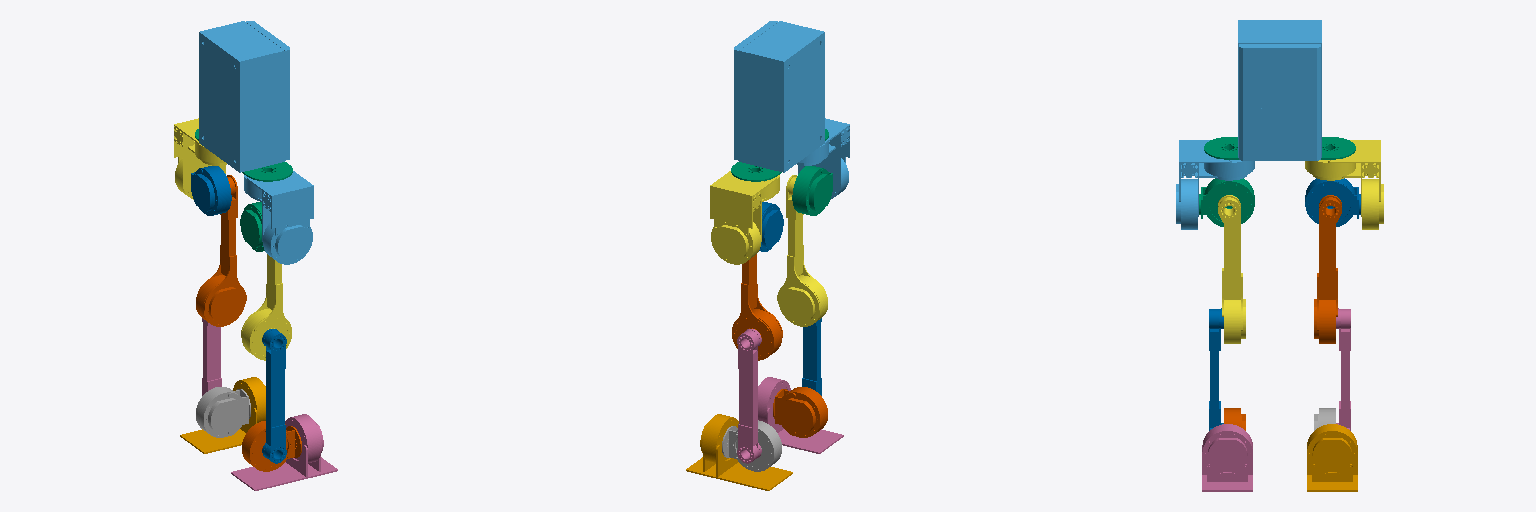
URDF robot description (Robot):
<?xml version='1.0' encoding='utf-8'?>
<robot name="Robot">
    <link name="isaac_zup_root" />
    <link name="robot_torso_link">
        <inertial>
            <origin xyz="0.040610506256968416 -0.04428824406417338 0.15232735840639008" rpy="0 0 0" />
            <mass value="3.4766230099551185" />
            <inertia ixx="0.04556755879204122" iyy="0.05012873896013437" izz="0.029046998553490355" ixy="0.00013634333507087952" iyz="-0.0001431936018525537" ixz="-2.17772042035041e-05" />
        </inertial>
        <visual name="robot_torso_link_visual">
            <origin xyz="0.03999999999999753 -0.20650000405311944 -0.8247999999999932" rpy="0 0 -1.5707963267948957" />
            <geometry>
                <mesh filename="meshes/robot_torso_link.stl" scale="0.001 0.001 0.001" />
            </geometry>
        </visual>
        <collision name="robot_torso_link_collision">
            <origin xyz="0.03999999999999753 -0.20650000405311944 -0.8247999999999932" rpy="0 0 -1.5707963267948957" />
            <geometry>
                <mesh filename="meshes/robot_torso_link.stl" scale="0.001 0.001 0.001" />
            </geometry>
        </collision>
    </link>
    <link name="robot_pelvis_link">
        <inertial>
            <origin xyz="1.907307843928129e-09 0.8221283725272435 -0.1605000000000951" rpy="0 0 0" />
            <mass value="0.4703666239440356" />
            <inertia ixx="0.0004950338258166186" iyy="0.0051455689188816735" izz="0.004655577203476379" ixy="-1.2414480207597884e-16" iyz="-4.9898332365055555e-17" ixz="-2.465814750775911e-16" />
        </inertial>
        <visual name="robot_pelvis_link_visual">
            <origin xyz="0 0 0" rpy="0 0 0" />
            <geometry>
                <mesh filename="meshes/robot_pelvis_link.stl" scale="0.001 0.001 0.001" />
            </geometry>
        </visual>
        <collision name="robot_pelvis_link_collision">
            <origin xyz="0 0 0" rpy="0 0 0" />
            <geometry>
                <mesh filename="meshes/robot_pelvis_link.stl" scale="0.001 0.001 0.001" />
            </geometry>
        </collision>
    </link>
    <link name="robot_l_hip_yaw_link">
        <inertial>
            <origin xyz="0.06170580963744272 4.0725723238210774e-09 0.06827606857409264" rpy="0 0 0" />
            <mass value="6.333603185323419" />
            <inertia ixx="0.02843678214079315" iyy="0.039819487774459095" izz="0.025134874646244865" ixy="3.3506530883187224e-12" iyz="4.739653114427256e-12" ixz="-0.010596038307325806" />
        </inertial>
        <visual name="robot_l_hip_yaw_link_visual">
            <origin xyz="0.0010000019072620959 4.05311087803284e-09 0.12129999999998944" rpy="0 0 -3.1415926535897922" />
            <geometry>
                <mesh filename="meshes/robot_l_hip_yaw_link.stl" scale="0.001 0.001 0.001" />
            </geometry>
        </visual>
        <collision name="robot_l_hip_yaw_link_collision">
            <origin xyz="0.0010000019072620959 4.05311087803284e-09 0.12129999999998944" rpy="0 0 -3.1415926535897922" />
            <geometry>
                <mesh filename="meshes/robot_l_hip_yaw_link.stl" scale="0.001 0.001 0.001" />
            </geometry>
        </collision>
    </link>
    <link name="robot_l_hip_pitch_link">
        <inertial>
            <origin xyz="-0.026961844630383532 -5.718654837863824e-05 -0.07266905837477283" rpy="0 0 0" />
            <mass value="2.4943200880759124" />
            <inertia ixx="0.005318665627016328" iyy="0.003522102440374625" izz="0.003180338974461794" ixy="-1.3011627608694454e-07" iyz="-3.3025731688285376e-07" ixz="-0.0001121184352927268" />
        </inertial>
        <visual name="robot_l_hip_pitch_link_visual">
            <origin xyz="0.0008000040530120778 -0.2573000000000127 -0.07500000166893413" rpy="-1.5707963267948846 1.5707963267948957 0" />
            <geometry>
                <mesh filename="meshes/robot_l_hip_pitch_link.stl" scale="0.001 0.001 0.001" />
            </geometry>
        </visual>
        <collision name="robot_l_hip_pitch_link_collision">
            <origin xyz="0.0008000040530120778 -0.2573000000000127 -0.07500000166893413" rpy="-1.5707963267948846 1.5707963267948957 0" />
            <geometry>
                <mesh filename="meshes/robot_l_hip_pitch_link.stl" scale="0.001 0.001 0.001" />
            </geometry>
        </collision>
    </link>
    <link name="robot_l_thigh_link">
        <inertial>
            <origin xyz="-0.013245029323110238 0.004137659780995229 0.2579314528909539" rpy="0 0 0" />
            <mass value="3.0917752218546957" />
            <inertia ixx="0.02883218865798365" iyy="0.02680266525524866" izz="0.0036078750210082194" ixy="-0.00010068883616658197" iyz="0.0021454171666641098" ixz="0.0010188574668206496" />
        </inertial>
        <visual name="robot_l_thigh_link_visual">
            <origin xyz="-0.006500003619415988 -0.0004999989936364812 -4.4971353929668115e-09" rpy="0 0 -3.1415926535897922" />
            <geometry>
                <mesh filename="meshes/robot_l_thigh_link.stl" scale="0.001 0.001 0.001" />
            </geometry>
        </visual>
        <collision name="robot_l_thigh_link_collision">
            <origin xyz="-0.006500003619415988 -0.0004999989936364812 -4.4971353929668115e-09" rpy="0 0 -3.1415926535897922" />
            <geometry>
                <mesh filename="meshes/robot_l_thigh_link.stl" scale="0.001 0.001 0.001" />
            </geometry>
        </collision>
    </link>
    <link name="robot_l_shank_link">
        <inertial>
            <origin xyz="1.0063314803687718e-09 -0.14999999550286447 -0.020887096844043624" rpy="0 0 0" />
            <mass value="0.8515894596853654" />
            <inertia ixx="0.00881783580739591" iyy="0.0001854586688501969" izz="0.008885909396953509" ixy="1.8041124150158794e-16" iyz="-3.122502256758253e-17" ixz="8.326672684688674e-17" />
        </inertial>
        <visual name="robot_l_shank_link_visual">
            <origin xyz="1.0063660482728664e-09 0.3000000044971418 0.0215000038578307" rpy="1.5707963267948748 1.5707963267948957 0" />
            <geometry>
                <mesh filename="meshes/robot_l_shank_link.stl" scale="0.001 0.001 0.001" />
            </geometry>
        </visual>
        <collision name="robot_l_shank_link_collision">
            <origin xyz="1.0063660482728664e-09 0.3000000044971418 0.0215000038578307" rpy="1.5707963267948748 1.5707963267948957 0" />
            <geometry>
                <mesh filename="meshes/robot_l_shank_link.stl" scale="0.001 0.001 0.001" />
            </geometry>
        </collision>
    </link>
    <link name="robot_l_ankle_link">
        <inertial>
            <origin xyz="0.0025101682576991104 -2.943557837626898e-06 0.02769320947693526" rpy="0 0 0" />
            <mass value="2.497542686119488" />
            <inertia ixx="0.0031700443782680526" iyy="0.0035459766740820464" izz="0.0053616412686150056" ixy="3.5193338254746465e-07" iyz="-5.0583123394759566e-08" ixz="8.715197442184935e-05" />
        </inertial>
        <visual name="robot_l_ankle_link_visual">
            <origin xyz="1.156405310862141e-05 0.5999409200000082 0.01851564809273647" rpy="1.5707963267949099 -1.5707963267948954 0" />
            <geometry>
                <mesh filename="meshes/robot_l_ankle_link.stl" scale="0.001 0.001 0.001" />
            </geometry>
        </visual>
        <collision name="robot_l_ankle_link_collision">
            <origin xyz="1.156405310862141e-05 0.5999409200000082 0.01851564809273647" rpy="1.5707963267949099 -1.5707963267948954 0" />
            <geometry>
                <mesh filename="meshes/robot_l_ankle_link.stl" scale="0.001 0.001 0.001" />
            </geometry>
        </collision>
    </link>
    <link name="robot_l_foot_link">
        <inertial>
            <origin xyz="2.1152892060172234e-09 0.021295075182204172 0.009743852524878563" rpy="0 0 0" />
            <mass value="2.78967156731517" />
            <inertia ixx="0.007113124123467429" iyy="0.007089530917847892" izz="0.005986516031780263" ixy="3.03213044949846e-11" iyz="0.0012082495505332316" ixz="-3.797835657071147e-11" />
        </inertial>
        <visual name="robot_l_foot_link_visual">
            <origin xyz="-0.009499998092736472 -0.07399999594689137 -0.6000000000000082" rpy="0 0 -3.1415926535897922" />
            <geometry>
                <mesh filename="meshes/robot_l_foot_link.stl" scale="0.001 0.001 0.001" />
            </geometry>
        </visual>
        <collision name="robot_l_foot_link_collision">
            <origin xyz="-0.009499998092736472 -0.07399999594689137 -0.6000000000000082" rpy="0 0 -3.1415926535897922" />
            <geometry>
                <mesh filename="meshes/robot_l_foot_link.stl" scale="0.001 0.001 0.001" />
            </geometry>
        </collision>
    </link>
    <link name="robot_r_hip_yaw_link">
        <inertial>
            <origin xyz="-0.06170580582138349 4.072578612124289e-09 0.06827606857536282" rpy="0 0 0" />
            <mass value="6.33360318547509" />
            <inertia ixx="0.02843678214118217" iyy="0.03981948777555333" izz="0.025134874646876526" ixy="-3.353012312246051e-12" iyz="4.741873560476506e-12" ixz="0.010596038306837752" />
        </inertial>
        <visual name="robot_r_hip_yaw_link_visual">
            <origin xyz="-0.0009999980926566998 4.0531109135599765e-09 0.12129999999999001" rpy="3.1415926535897802 0 0" />
            <geometry>
                <mesh filename="meshes/robot_r_hip_yaw_link.stl" scale="0.001 0.001 0.001" />
            </geometry>
        </visual>
        <collision name="robot_r_hip_yaw_link_collision">
            <origin xyz="-0.0009999980926566998 4.0531109135599765e-09 0.12129999999999001" rpy="3.1415926535897802 0 0" />
            <geometry>
                <mesh filename="meshes/robot_r_hip_yaw_link.stl" scale="0.001 0.001 0.001" />
            </geometry>
        </collision>
    </link>
    <link name="robot_r_hip_pitch_link">
        <inertial>
            <origin xyz="-0.026950748673872482 -4.88774409745929e-07 0.07268407470290482" rpy="0 0 0" />
            <mass value="2.4943200880759147" />
            <inertia ixx="0.005318838704479356" iyy="0.0035222338455168783" izz="0.003180296615424849" ixy="-2.273747284897709e-08" iyz="2.8234854454467495e-09" ixz="0.00011208276943740214" />
        </inertial>
        <visual name="robot_r_hip_pitch_link_visual">
            <origin xyz="0.0008000040530125752 -0.25730000000001313 0.07500000548354112" rpy="1.5707963267948843 -1.5707963267948957 0" />
            <geometry>
                <mesh filename="meshes/robot_r_hip_pitch_link.stl" scale="0.001 0.001 0.001" />
            </geometry>
        </visual>
        <collision name="robot_r_hip_pitch_link_collision">
            <origin xyz="0.0008000040530125752 -0.25730000000001313 0.07500000548354112" rpy="1.5707963267948843 -1.5707963267948957 0" />
            <geometry>
                <mesh filename="meshes/robot_r_hip_pitch_link.stl" scale="0.001 0.001 0.001" />
            </geometry>
        </collision>
    </link>
    <link name="robot_r_thigh_link">
        <inertial>
            <origin xyz="0.013245027463408991 0.0041376628277389575 0.25793145738807766" rpy="0 0 0" />
            <mass value="3.0917752218546957" />
            <inertia ixx="0.028832188657983426" iyy="0.026802665253455205" izz="0.0036078750192149595" ixy="0.00010068883404956708" iyz="0.002145417166664748" ixz="-0.0010188574476189816" />
        </inertial>
        <visual name="robot_r_thigh_link_visual">
            <origin xyz="0.0065000019073440645 -0.0004999959468891291 0" rpy="3.14159265358978 0 0" />
            <geometry>
                <mesh filename="meshes/robot_r_thigh_link.stl" scale="0.001 0.001 0.001" />
            </geometry>
        </visual>
        <collision name="robot_r_thigh_link_collision">
            <origin xyz="0.0065000019073440645 -0.0004999959468891291 0" rpy="3.14159265358978 0 0" />
            <geometry>
                <mesh filename="meshes/robot_r_thigh_link.stl" scale="0.001 0.001 0.001" />
            </geometry>
        </collision>
    </link>
    <link name="robot_r_shank_link">
        <inertial>
            <origin xyz="4.053073610066349e-09 -0.1499999999999902 0.020887098746808892" rpy="0 0 0" />
            <mass value="0.8515894596853654" />
            <inertia ixx="0.008817835807396313" iyy="0.00018545866885018997" izz="0.00888590939695276" ixy="1.3183898417423736e-16" iyz="-8.673617379884035e-17" ixz="-9.71445146547012e-17" />
        </inertial>
        <visual name="robot_r_shank_link_visual">
            <origin xyz="4.053111481994165e-09 0.30000000000001625 -0.021500001955065164" rpy="-1.570796326794883 -1.5707963267948895 0" />
            <geometry>
                <mesh filename="meshes/robot_r_shank_link.stl" scale="0.001 0.001 0.001" />
            </geometry>
        </visual>
        <collision name="robot_r_shank_link_collision">
            <origin xyz="4.053111481994165e-09 0.30000000000001625 -0.021500001955065164" rpy="-1.570796326794883 -1.5707963267948895 0" />
            <geometry>
                <mesh filename="meshes/robot_r_shank_link.stl" scale="0.001 0.001 0.001" />
            </geometry>
        </collision>
    </link>
    <link name="robot_r_ankle_link">
        <inertial>
            <origin xyz="0.0025096898970127057 -4.881742402496059e-07 -0.027692556251518372" rpy="0 0 0" />
            <mass value="2.4975426861194876" />
            <inertia ixx="0.0031700827310189514" iyy="0.003545876434914566" izz="0.005361501992920389" ixy="-3.0598998820852152e-09" iyz="-2.2441597559430537e-08" ixz="-8.723165997445714e-05" />
        </inertial>
        <visual name="robot_r_ankle_link_visual">
            <origin xyz="4.05311087803284e-09 0.6000000000000114 -0.01950000190734407" rpy="-1.5707963267949099 1.5707963267948957 0" />
            <geometry>
                <mesh filename="meshes/robot_r_ankle_link.stl" scale="0.001 0.001 0.001" />
            </geometry>
        </visual>
        <collision name="robot_r_ankle_link_collision">
            <origin xyz="4.05311087803284e-09 0.6000000000000114 -0.01950000190734407" rpy="-1.5707963267949099 1.5707963267948957 0" />
            <geometry>
                <mesh filename="meshes/robot_r_ankle_link.stl" scale="0.001 0.001 0.001" />
            </geometry>
        </collision>
    </link>
    <link name="robot_r_foot_link">
        <inertial>
            <origin xyz="1.699318552539353e-09 0.02129507460669811 0.009743852524875" rpy="0 0 0" />
            <mass value="2.7896715673151693" />
            <inertia ixx="0.007113124257631137" iyy="0.007089530917849758" izz="0.005986516165940273" ixy="-3.032198797603414e-11" iyz="0.0012082496450576182" ixz="3.797783962311563e-11" />
        </inertial>
        <visual name="robot_r_foot_link_visual">
            <origin xyz="0.009500001907344959 -0.07400000000000669 -0.6000000000000062" rpy="3.1415926535897802 0 0" />
            <geometry>
                <mesh filename="meshes/robot_r_foot_link.stl" scale="0.001 0.001 0.001" />
            </geometry>
        </visual>
        <collision name="robot_r_foot_link_collision">
            <origin xyz="0.009500001907344959 -0.07400000000000669 -0.6000000000000062" rpy="3.1415926535897802 0 0" />
            <geometry>
                <mesh filename="meshes/robot_r_foot_link.stl" scale="0.001 0.001 0.001" />
            </geometry>
        </collision>
    </link>
        <joint name="isaac_zup_root_joint" type="fixed">
        <parent link="isaac_zup_root" />
        <child link="robot_pelvis_link" />
        <origin xyz="0 0 0" rpy="1.57079632679 0 1.57079632679" />
    </joint>
    <joint name="robot_pelvis_link_torso_joint" type="fixed">
        <origin xyz="-0.03999999999999768 0.8247999999999912 -0.2065000040531073" rpy="-1.5707963267948837 0 0" />
        <parent link="robot_pelvis_link" />
        <child link="robot_torso_link" />
    </joint>
    <joint name="robot_pelvis_link_l_yaw_joint" type="revolute">
        <origin xyz="0.12000000000000183 0.8127999999999906 -0.16050000405310783" rpy="1.5707963267949094 0 0" />
        <parent link="robot_pelvis_link" />
        <child link="robot_l_hip_yaw_link" />
        <axis xyz="0 0 1.0" />
        <limit lower="-0.523599" upper="0.523599" effort="1000000" velocity="1000000" />
    </joint>
    <joint name="robot_pelvis_link_r_yaw_joint" type="revolute">
        <origin xyz="-0.11999999999999739 0.8127999999999906 -0.1605000040531078" rpy="1.5707963267949094 0 0" />
        <parent link="robot_pelvis_link" />
        <child link="robot_r_hip_yaw_link" />
        <axis xyz="0 0 -1.0" />
        <limit lower="-0.523599" upper="0.523599" effort="1000000" velocity="1000000" />
    </joint>
    <joint name="robot_l_hip_yaw_link_l_pitch_joint" type="revolute">
        <origin xyz="0.075 0 0.13629999999999995" rpy="1.5707963267948966 0 1.5707963267948966" />
        <parent link="robot_l_hip_yaw_link" />
        <child link="robot_l_hip_pitch_link" />
        <axis xyz="0 0 -1.0" />
        <limit lower="-0.698132" upper="1.047198" effort="1000000" velocity="1000000" />
    </joint>
    <joint name="robot_r_hip_yaw_link_r_pitch_joint" type="revolute">
        <origin xyz="-0.075 0 0.13629999999999995" rpy="1.5707963267948966 0 1.5707963267948966" />
        <parent link="robot_r_hip_yaw_link" />
        <child link="robot_r_hip_pitch_link" />
        <axis xyz="0 0 -1.0" />
        <limit lower="-0.698132" upper="1.047198" effort="1000000" velocity="1000000" />
    </joint>
    <joint name="robot_l_hip_pitch_link_l_roll_joint" type="revolute">
        <origin xyz="0.00048843999999999 -5.907999999990921e-05 -0.07498435" rpy="-1.5707963267948966 -1.5707963267948966 0" />
        <parent link="robot_l_hip_pitch_link" />
        <child link="robot_l_thigh_link" />
        <axis xyz="0 1.0 0" />
        <limit lower="-0.436332" upper="0.436332" effort="1000000" velocity="1000000" />
    </joint>
    <joint name="robot_r_hip_pitch_link_r_roll_joint" type="revolute">
        <origin xyz="0.0005000000000000072 0 0.075" rpy="-1.5707963267948966 -1.5707963267948966 0" />
        <parent link="robot_r_hip_pitch_link" />
        <child link="robot_r_thigh_link" />
        <axis xyz="0 -1.0 0" />
        <limit lower="-0.436332" upper="0.436332" effort="1000000" velocity="1000000" />
    </joint>
    <joint name="robot_l_thigh_link_l_knee_joint" type="revolute">
        <origin xyz="0.013000000000000008 -0.0004999999999999716 0.3" rpy="-1.5707963267948966 0 1.5707963267948966" />
        <parent link="robot_l_thigh_link" />
        <child link="robot_l_shank_link" />
        <axis xyz="0 0 -1.0" />
        <limit lower="0.0" upper="2.094395" effort="1000000" velocity="1000000" />
    </joint>
    <joint name="robot_r_thigh_link_r_knee_joint" type="revolute">
        <origin xyz="-0.013000000000000008 -0.0005000000000000072 0.3000000000000001" rpy="-1.5707963267948966 0 1.5707963267948966" />
        <parent link="robot_r_thigh_link" />
        <child link="robot_r_shank_link" />
        <axis xyz="0 0 -1.0" />
        <limit lower="0.0" upper="2.094395" effort="1000000" velocity="1000000" />
    </joint>
    <joint name="robot_l_shank_link_l_ankle_joint" type="revolute">
        <origin xyz="0 -0.3 0" rpy="0 0 0" />
        <parent link="robot_l_shank_link" />
        <child link="robot_l_ankle_link" />
        <axis xyz="0 0 1.0" />
        <limit lower="-0.610865" upper="0.610865" effort="1000000" velocity="1000000" />
    </joint>
    <joint name="robot_r_shank_link_r_ankle_joint" type="revolute">
        <origin xyz="0 -0.3 0" rpy="0 0 0" />
        <parent link="robot_r_shank_link" />
        <child link="robot_r_ankle_link" />
        <axis xyz="0 0 1.0" />
        <limit lower="-0.610865" upper="0.610865" effort="1000000" velocity="1000000" />
    </joint>
    <joint name="robot_l_ankle_link_l_foot_joint" type="revolute">
        <origin xyz="0.07401155999999999 -5.9079999999998025e-05 0.009015649999999998" rpy="1.5707963267948966 1.5707963267948966 0" />
        <parent link="robot_l_ankle_link" />
        <child link="robot_l_foot_link" />
        <axis xyz="0 1.0 0" />
        <limit lower="-0.261799" upper="0.261799" effort="1000000" velocity="1000000" />
    </joint>
    <joint name="robot_r_ankle_link_r_foot_joint" type="revolute">
        <origin xyz="0.07400000000000001 0 -0.009000000000000005" rpy="1.5707963267948966 1.5707963267948966 0" />
        <parent link="robot_r_ankle_link" />
        <child link="robot_r_foot_link" />
        <axis xyz="0 -1.0 0" />
        <limit lower="-0.261799" upper="0.261799" effort="1000000" velocity="1000000" />
    </joint>
</robot>

--- Render facts (derived) ---
Views: 3 orthographic renders of the robot side by side, from view 1: azimuth 30°, elevation 25°; view 2: azimuth 150°, elevation 25°; view 3: azimuth 270°, elevation 25°.
Model Robot with 15 links and 14 joints (12 revolute, 2 fixed), rooted at isaac_zup_root, posed all joints at 0.
Visible links, largest first — view 1: robot_torso_link, robot_r_hip_yaw_link, robot_l_thigh_link, robot_r_foot_link, robot_r_shank_link, robot_r_thigh_link, robot_l_ankle_link, robot_l_hip_yaw_link, robot_l_foot_link, robot_l_hip_pitch_link, robot_r_ankle_link, robot_l_shank_link (+2 smaller); view 2: robot_torso_link, robot_l_hip_yaw_link, robot_r_thigh_link, robot_l_foot_link, robot_l_shank_link, robot_l_thigh_link, robot_r_ankle_link, robot_r_hip_yaw_link, robot_r_foot_link, robot_r_hip_pitch_link, robot_l_ankle_link, robot_r_shank_link (+2 smaller); view 3: robot_torso_link, robot_l_foot_link, robot_r_foot_link, robot_l_hip_yaw_link, robot_r_hip_yaw_link, robot_l_thigh_link, robot_r_thigh_link, robot_r_hip_pitch_link, robot_l_hip_pitch_link, robot_pelvis_link, robot_l_shank_link, robot_r_shank_link.
Link boxes in pixels (x1,y1,x2,y2): robot_torso_link: (199, 21, 289, 172); robot_r_hip_yaw_link: (244, 171, 313, 264); robot_l_thigh_link: (196, 175, 246, 326); robot_r_foot_link: (231, 414, 337, 490); robot_r_shank_link: (262, 329, 286, 463); robot_r_thigh_link: (241, 254, 291, 360); robot_l_ankle_link: (196, 387, 250, 437); robot_l_hip_yaw_link: (174, 118, 226, 199); robot_l_foot_link: (180, 377, 265, 453); robot_l_hip_pitch_link: (191, 166, 231, 215); robot_r_ankle_link: (242, 421, 301, 471); robot_l_shank_link: (202, 318, 221, 395); robot_torso_link: (734, 21, 824, 172); robot_l_hip_yaw_link: (710, 171, 779, 264); robot_r_thigh_link: (777, 175, 827, 326); robot_l_foot_link: (686, 414, 792, 490); robot_l_shank_link: (737, 329, 761, 463); robot_l_thigh_link: (732, 254, 782, 360); robot_r_ankle_link: (773, 387, 827, 437); robot_r_hip_yaw_link: (797, 118, 849, 199); robot_r_foot_link: (758, 377, 843, 453); robot_r_hip_pitch_link: (792, 166, 832, 215); robot_l_ankle_link: (722, 420, 781, 471); robot_r_shank_link: (802, 318, 821, 395); robot_torso_link: (1238, 20, 1321, 160); robot_l_foot_link: (1307, 424, 1357, 491); robot_r_foot_link: (1202, 424, 1252, 491); robot_l_hip_yaw_link: (1305, 140, 1383, 229); robot_r_hip_yaw_link: (1176, 140, 1254, 229); robot_l_thigh_link: (1314, 195, 1341, 343); robot_r_thigh_link: (1218, 195, 1245, 343); robot_r_hip_pitch_link: (1199, 178, 1254, 226); robot_l_hip_pitch_link: (1305, 178, 1360, 226); robot_pelvis_link: (1204, 137, 1355, 159); robot_l_shank_link: (1336, 308, 1350, 430); robot_r_shank_link: (1209, 308, 1223, 430).
Bounding box of the posed robot: 0.235 × 0.4954 × 1.12 m (x, y, z).
Meshes: 14 distinct files referenced, 14 mesh visuals loaded (14 binary STL).
